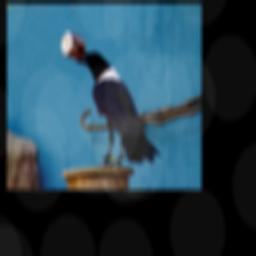Crow: (74, 50, 161, 168)
